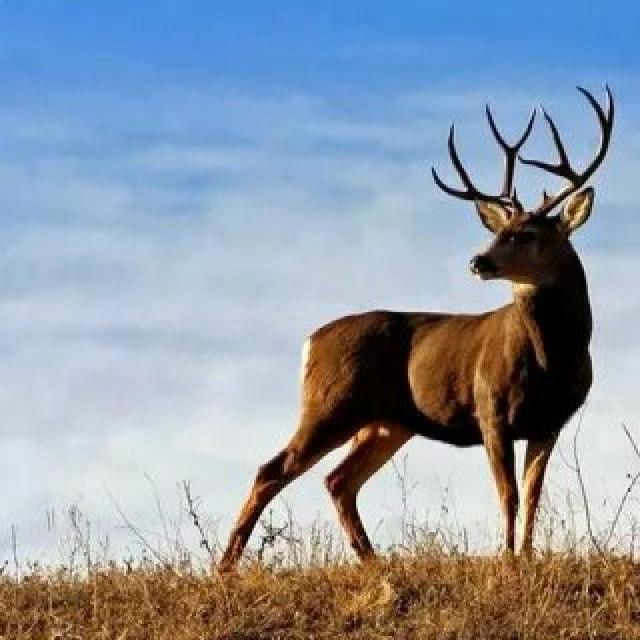deer: (225, 84, 640, 591)
